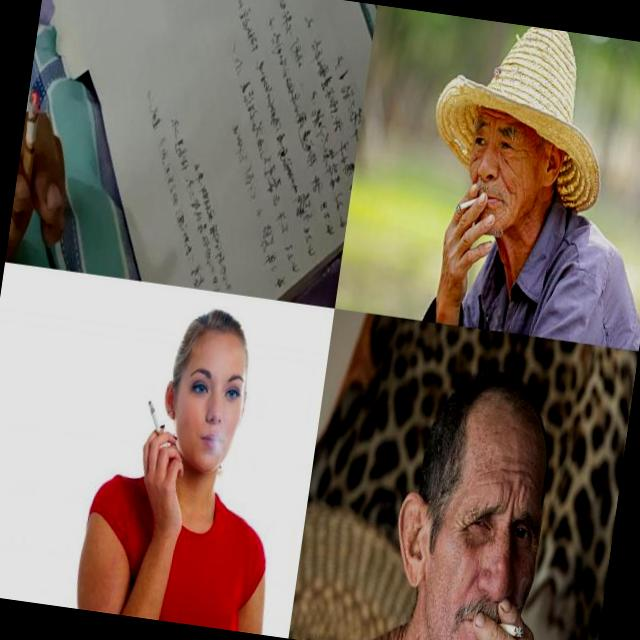cigarette: (15, 90, 44, 204), (142, 399, 168, 442), (492, 617, 527, 640), (455, 192, 483, 215)
